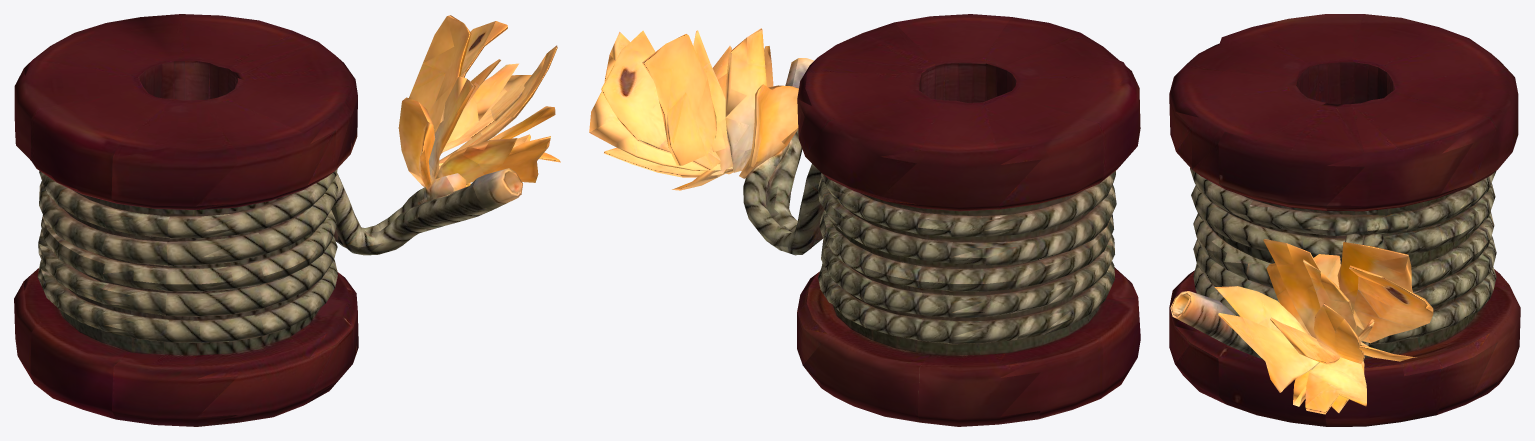
File: fuse.glb
The picture shows the model from 3 angles, left to right: view 1: azimuth 30°, elevation 25°; view 2: azimuth 150°, elevation 25°; view 3: azimuth 270°, elevation 25°; orthographic projection.
Size of the model in its own units: 1 by 0.5254 by 0.5996.
1 material, 1 textured.
